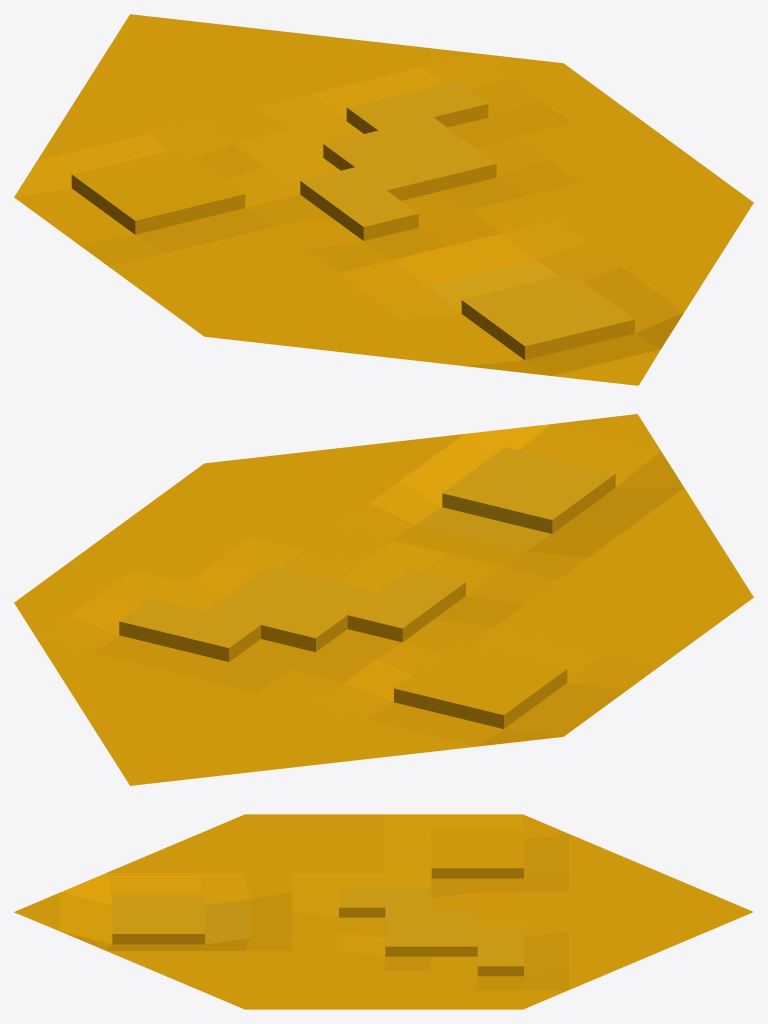
Rendered from Desert.fbx.
3 renders of one model, top to bottom at view 1: azimuth 30°, elevation 25°; view 2: azimuth 150°, elevation 25°; view 3: azimuth 270°, elevation 25°, orthographic. The views are drawn at different scales.
Parts seen in each view (by area): view 1: Plane; view 2: Plane; view 3: Plane.
Part boxes in pixels (<box>): Plane: <box>14,14,753,385</box>; Plane: <box>14,414,753,785</box>; Plane: <box>14,814,753,1009</box>.
Size of the model in its own units: 1.25 by 0.0451 by 2.
